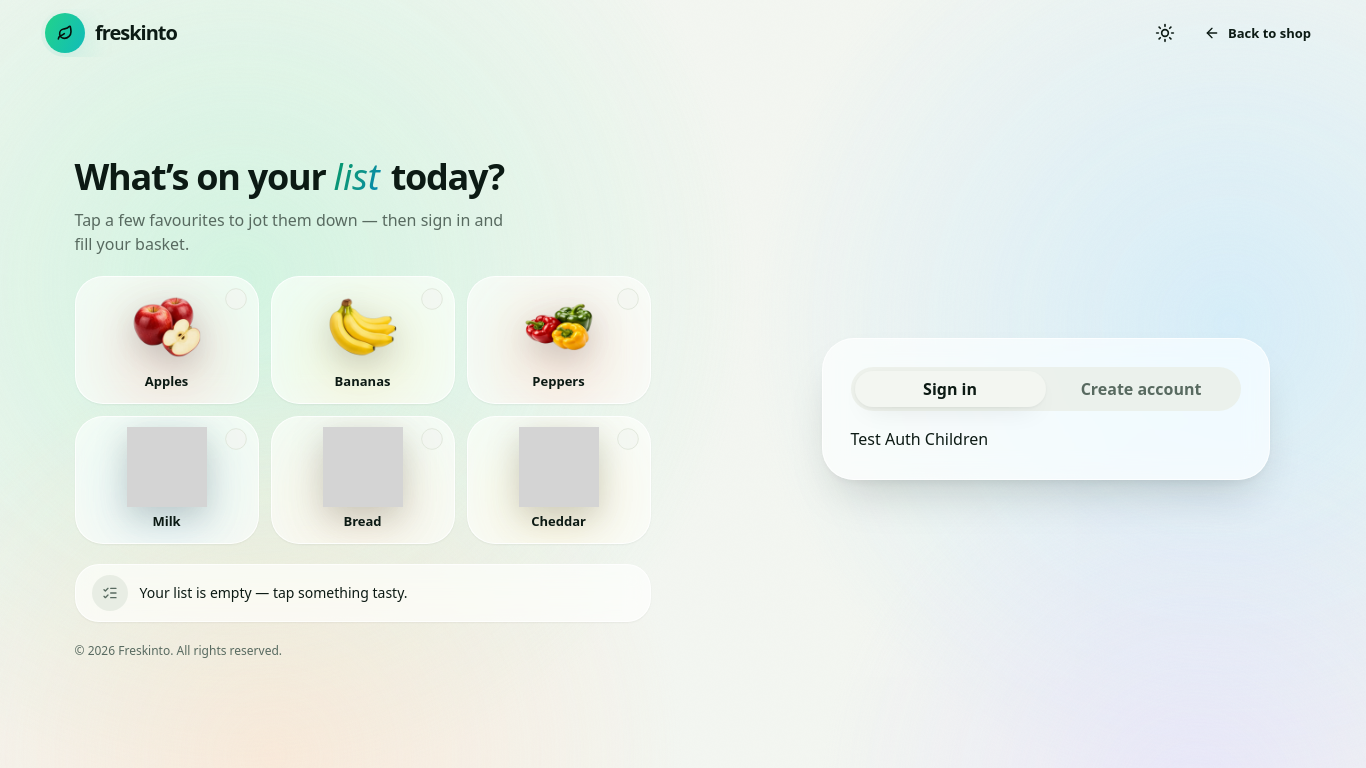
Test case: LoginForm › AuthShell mounts the mode switch and the tap-to-pick list, without the 3D HeroOrbit
Expected: the text "Test Auth Children" is shown, [850, 428, 988, 450]
Expected: the text "Your list is empty — tap something tasty." is shown, [140, 582, 408, 605]
Click the button "Apples": (166, 340) [74, 276, 258, 404]
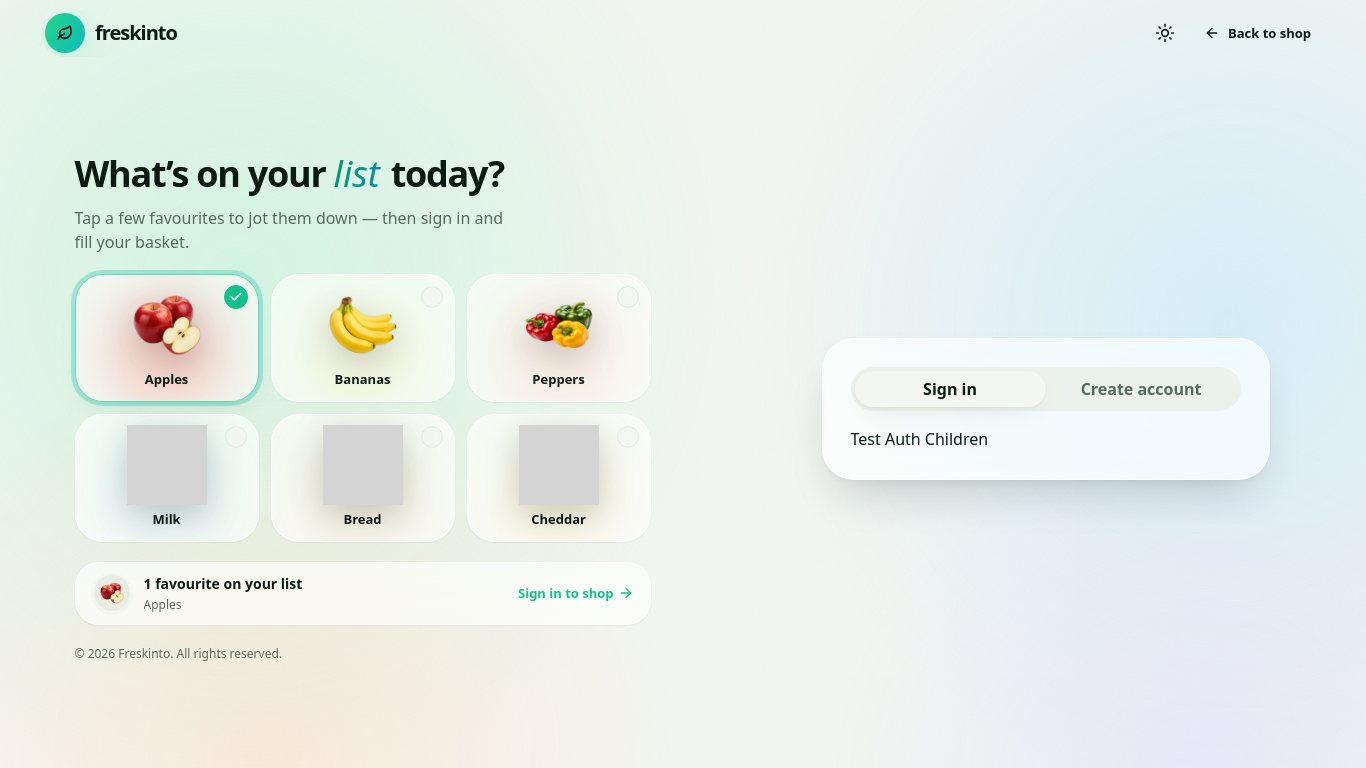
Click the button "Milk": (166, 478) [74, 414, 258, 542]
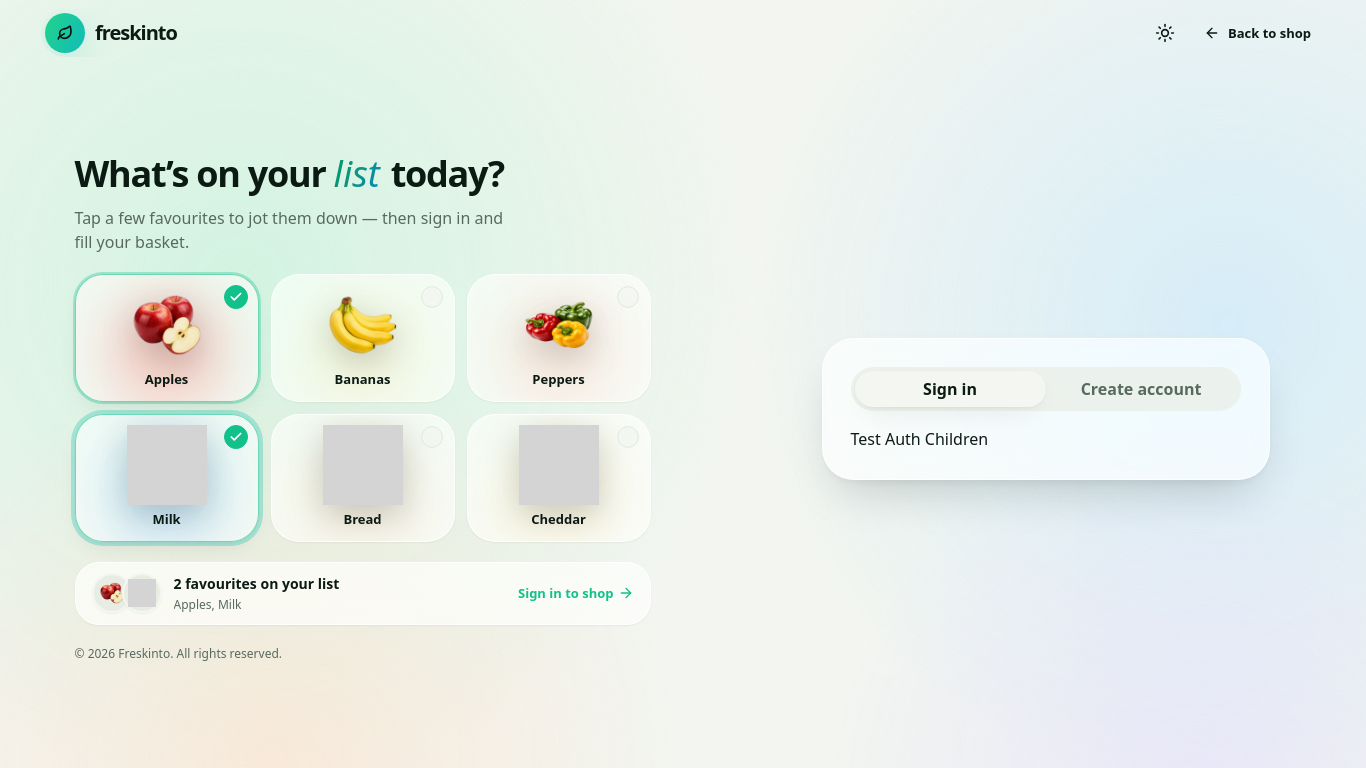
Result: the text "2 favourites on your list" is shown at [174, 574, 339, 593]
Click the button "Apples": (166, 338) [74, 274, 258, 402]
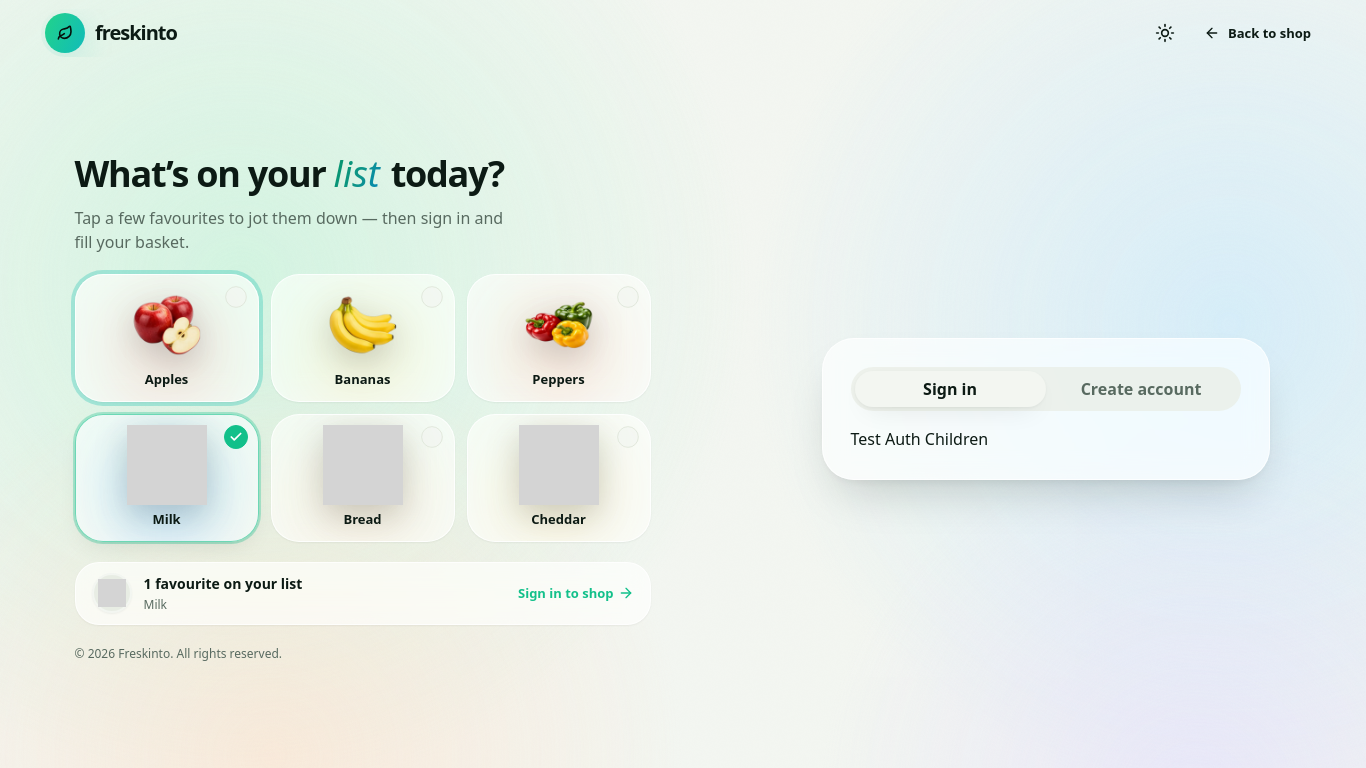
Result: the text "1 favourite on your list" is shown at [144, 574, 302, 593]
